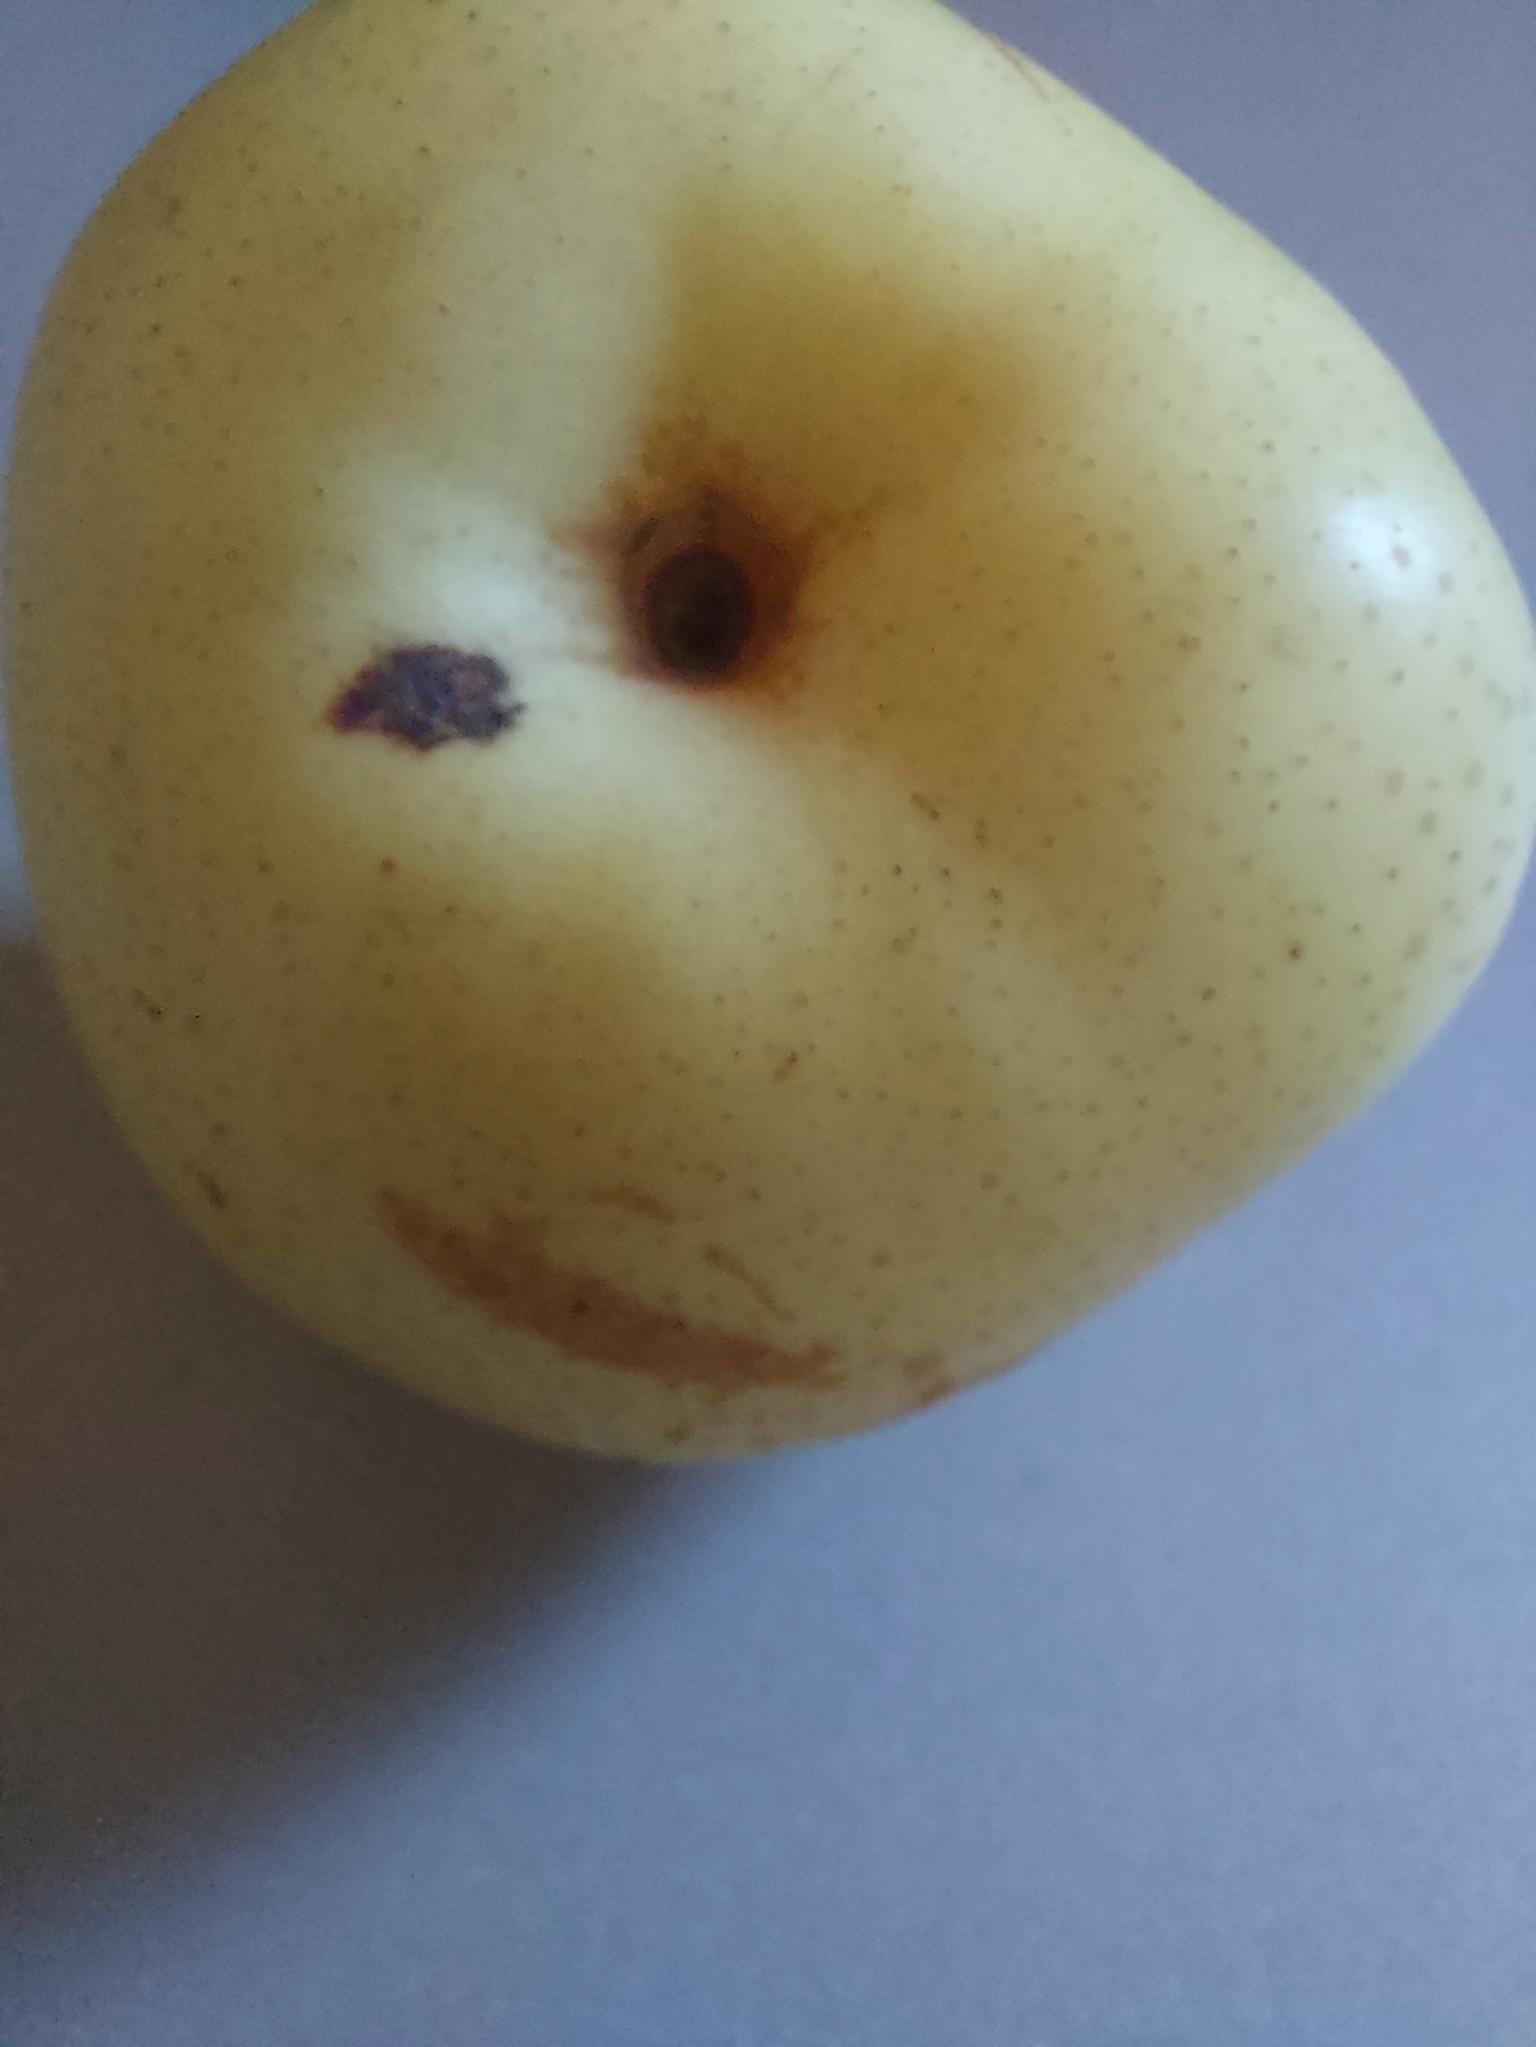Good Pear: (0, 0, 1536, 1560)
